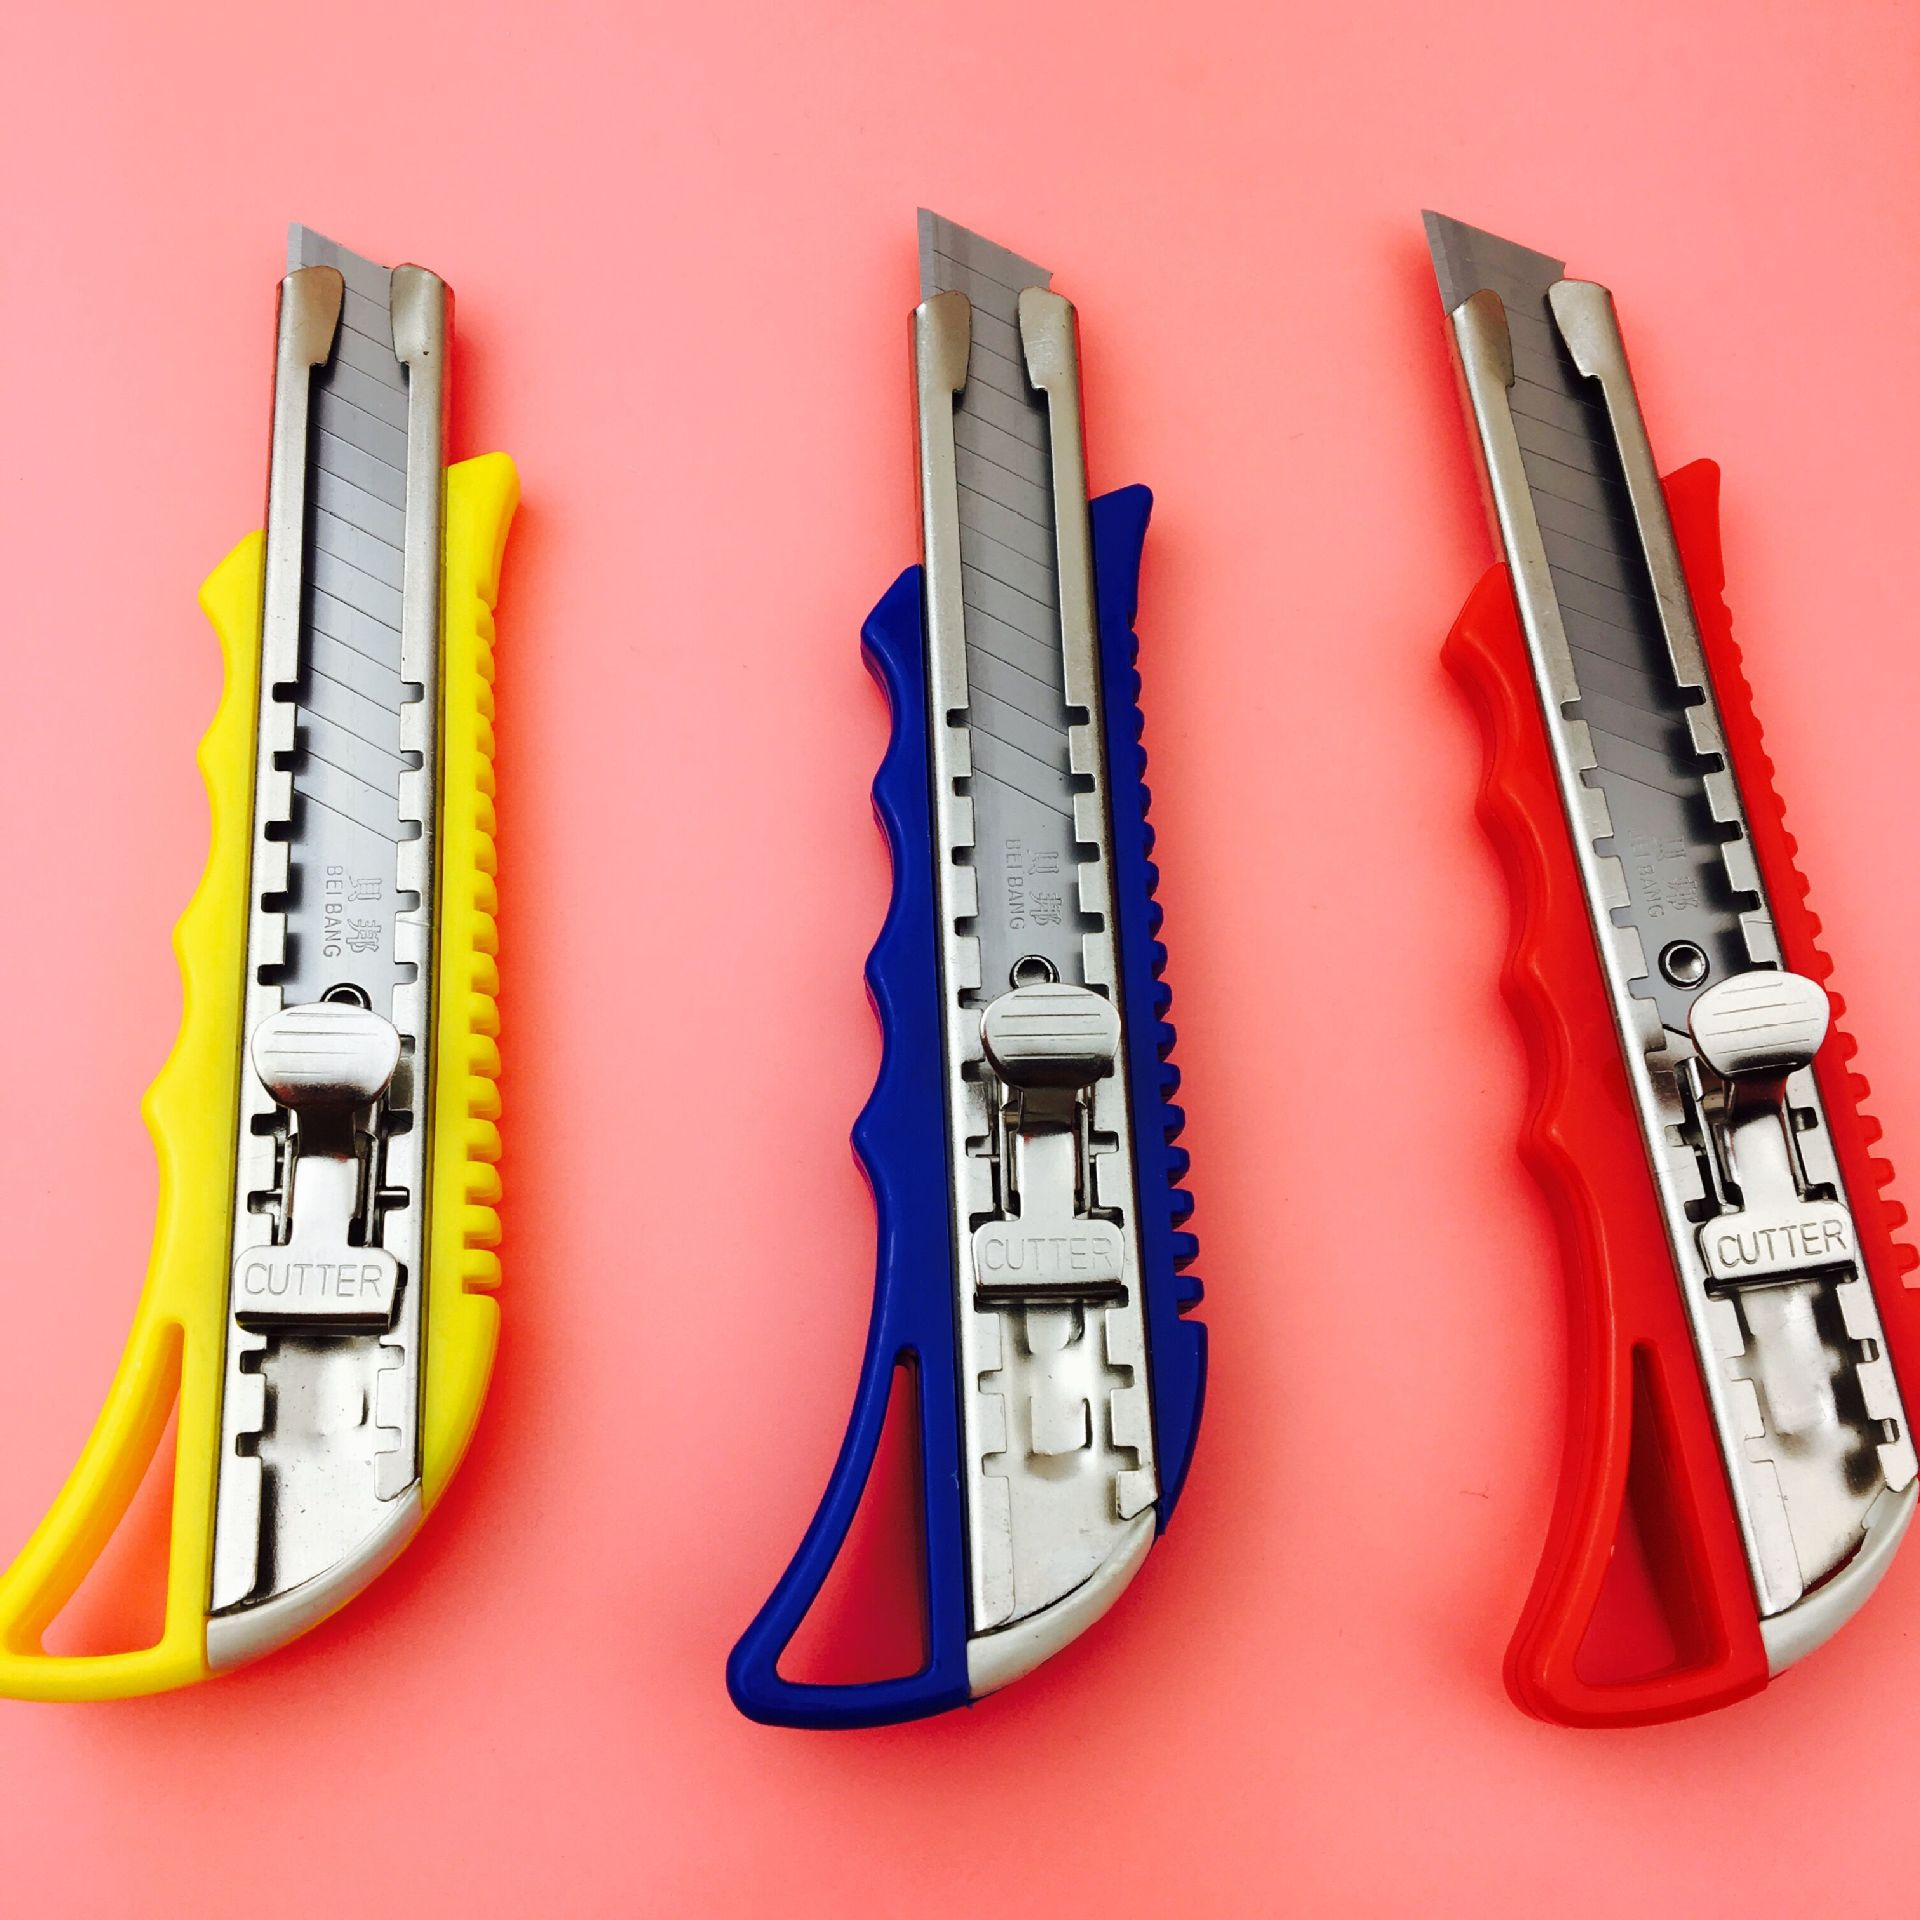cutter: (2, 213, 522, 1704), (1412, 206, 1901, 1734), (719, 202, 1152, 1728)
